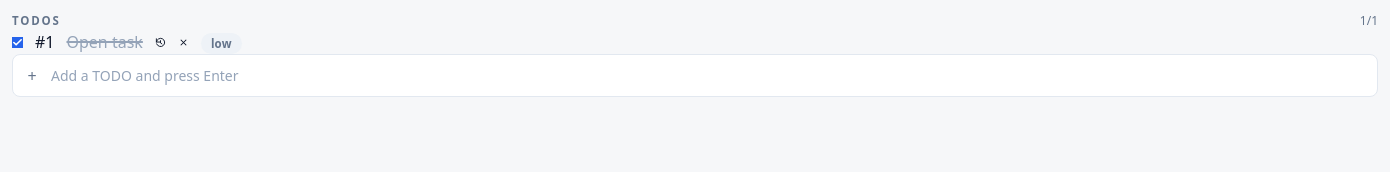
Test: TodosSection completion-day behaviour › shows the inline error when the server rejects a reopen (stale view)
This screenshot has width=1390, height=172.
Click the button named "Mark not done": (18, 42) [12,36,23,48]
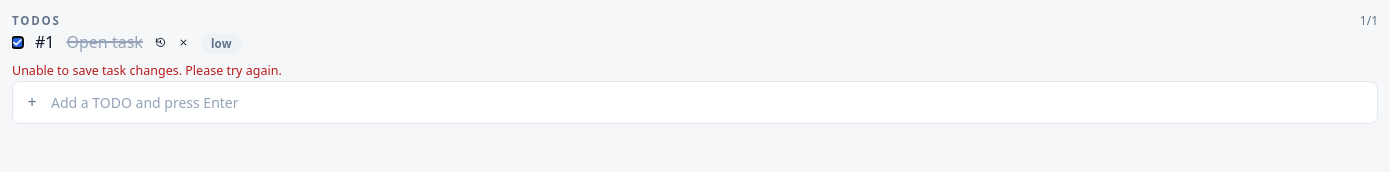
Expected: the message "Unable to save task changes. Please try again." is shown, [12,62,282,79]
